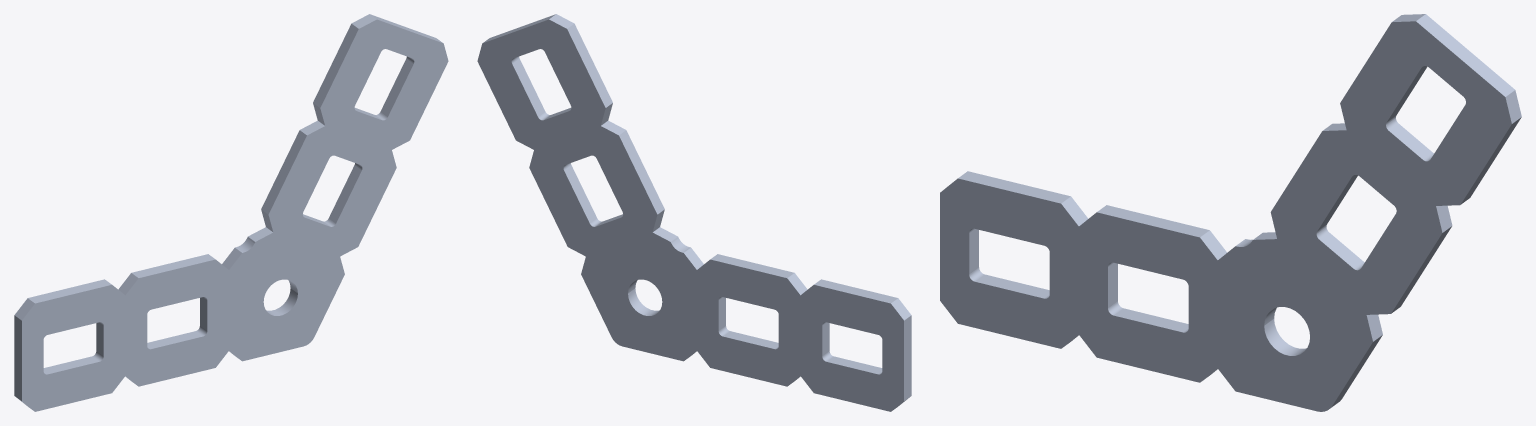
3 views of the same model, side by side, from view 1: azimuth 30°, elevation 25°; view 2: azimuth 150°, elevation 25°; view 3: azimuth 330°, elevation 25° (orthographic). The views are drawn at different scales.
Visible parts, largest first — view 1: 276-7760-001 Rev1; view 2: 276-7760-001 Rev1; view 3: 276-7760-001 Rev1.
Boxes of the visible parts, x1,y1,x2,y2 form: 276-7760-001 Rev1: (14,14,448,411); 276-7760-001 Rev1: (477,14,911,411); 276-7760-001 Rev1: (940,14,1521,411).
Size of the model in its own units: 52.31 by 36.21 by 1.58.
